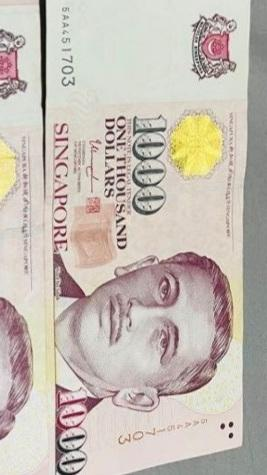1000SingaporeDollar: (48, 0, 238, 475)
